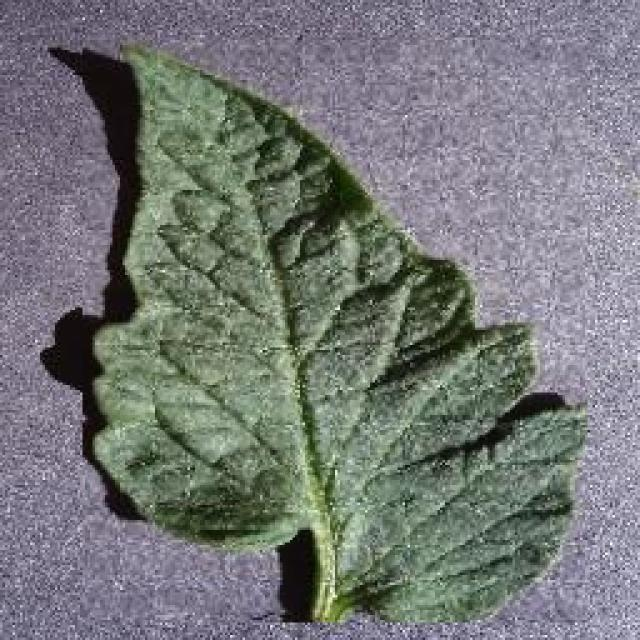Healthy: (82, 35, 588, 623)
